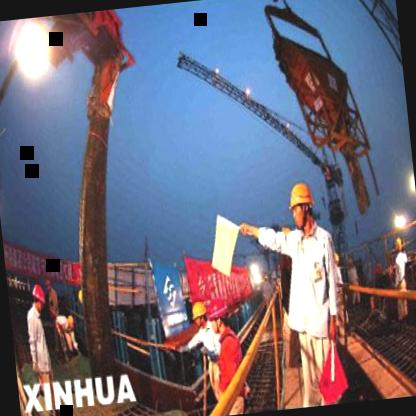helmet: (285, 174, 317, 234), (203, 292, 234, 340), (188, 300, 211, 334), (29, 280, 46, 314)
